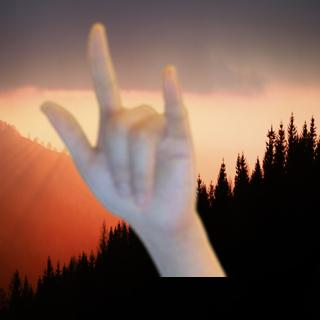ILY: (30, 17, 203, 234)
